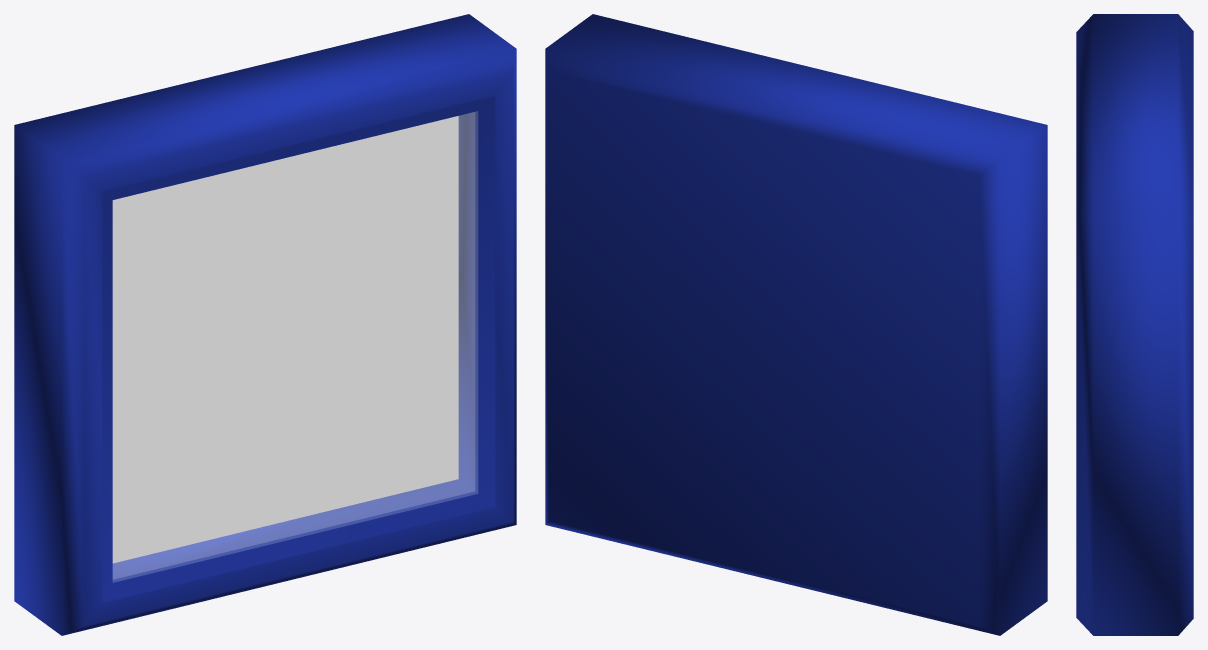
The model's file is Frame_test_blue.fbx.
The picture shows the model from 3 angles, left to right: view 1: azimuth 30°, elevation 25°; view 2: azimuth 150°, elevation 25°; view 3: azimuth 270°, elevation 25°; orthographic projection. The views are drawn at different scales.
Visible parts, largest first — view 1: Frame_glass, Frame, Frame.001; view 2: Frame; view 3: Frame.
Boxes of the visible parts, left/top/right/bottom form: Frame_glass: left=113, top=112, right=477, bottom=581; Frame: left=14, top=14, right=516, bottom=635; Frame.001: left=112, top=116, right=458, bottom=563; Frame: left=545, top=14, right=1047, bottom=635; Frame: left=1076, top=14, right=1193, bottom=635.
Bounding box in the file's own units: 40 × 40 × 10.
